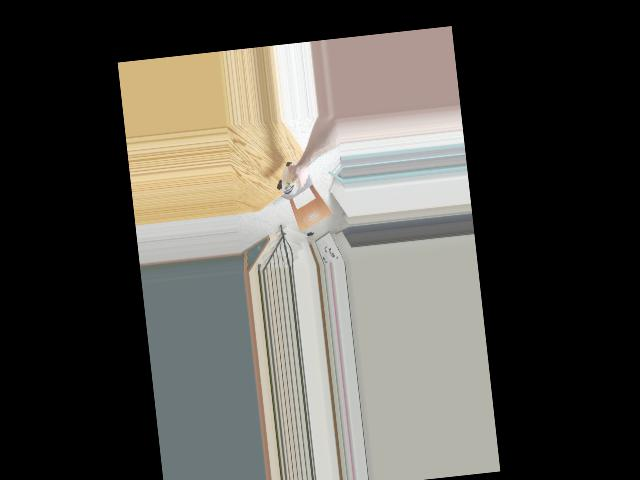cheese: (274, 157, 310, 196)
